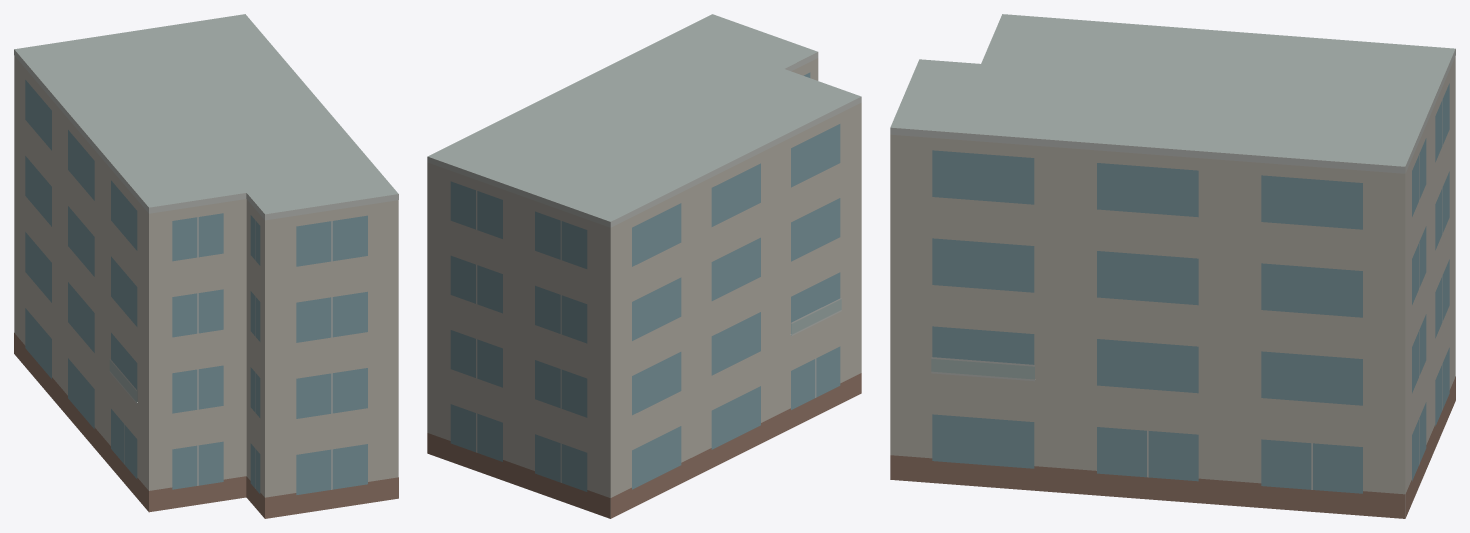
File: residential-93c9c6c7-9aca-4bf0-a303-58a4c9f8fb14.glb
3 views of the same model, side by side, from view 1: azimuth 30°, elevation 25°; view 2: azimuth 150°, elevation 25°; view 3: azimuth 270°, elevation 25° (orthographic). The views are drawn at different scales.
Visible parts, largest first — view 1: residential-93c9c6c7-9aca-4bf0-a303-58a4c9f8fb14.tmp; view 2: residential-93c9c6c7-9aca-4bf0-a303-58a4c9f8fb14.tmp; view 3: residential-93c9c6c7-9aca-4bf0-a303-58a4c9f8fb14.tmp.
Part boxes in pixels (<box>): residential-93c9c6c7-9aca-4bf0-a303-58a4c9f8fb14.tmp: <box>14,14,398,518</box>; residential-93c9c6c7-9aca-4bf0-a303-58a4c9f8fb14.tmp: <box>427,14,861,518</box>; residential-93c9c6c7-9aca-4bf0-a303-58a4c9f8fb14.tmp: <box>890,14,1455,518</box>.
Size of the model in its own units: 11.36 by 12.2 by 17.77.
